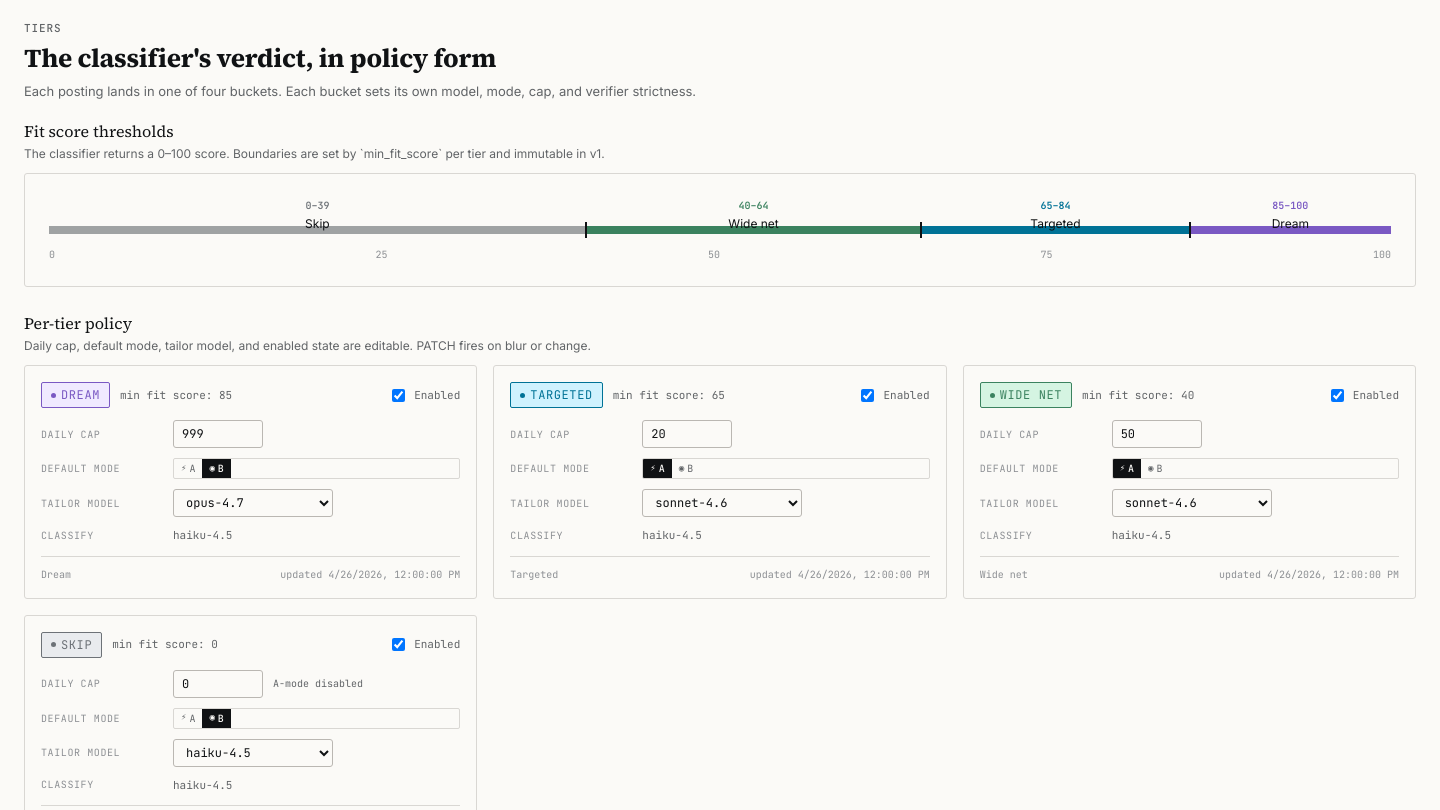
Test: Tiers route — wired to backend › PATCH 422 rolls back the optimistic value and shows an inline error
The image size is (1440, 810).
Replace the text in the 2nd number field labelled "Daily cap" with "999999" at [687, 434], box [642,420,732,448]
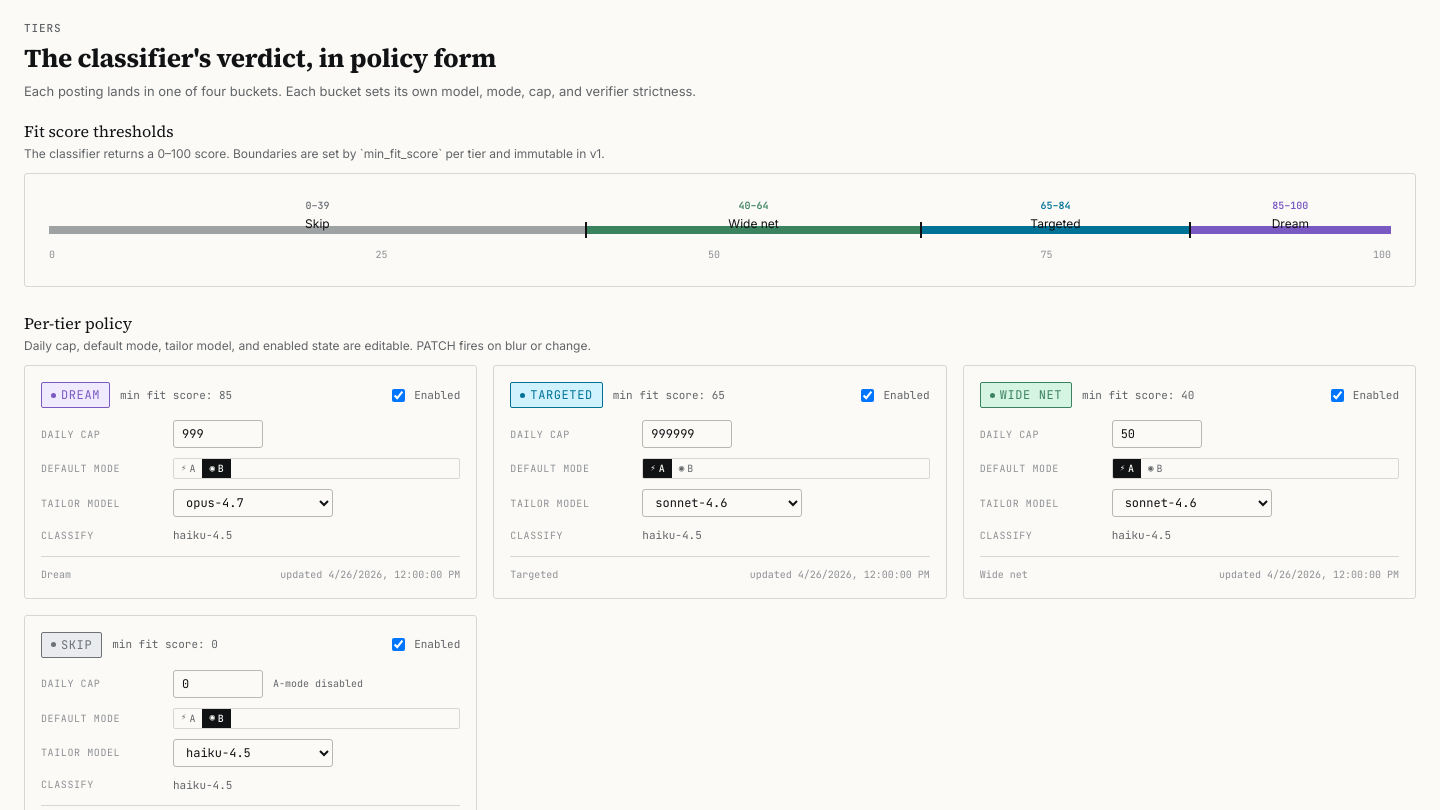
Leave the 2nd number field labelled "Daily cap", box [642,420,732,448]
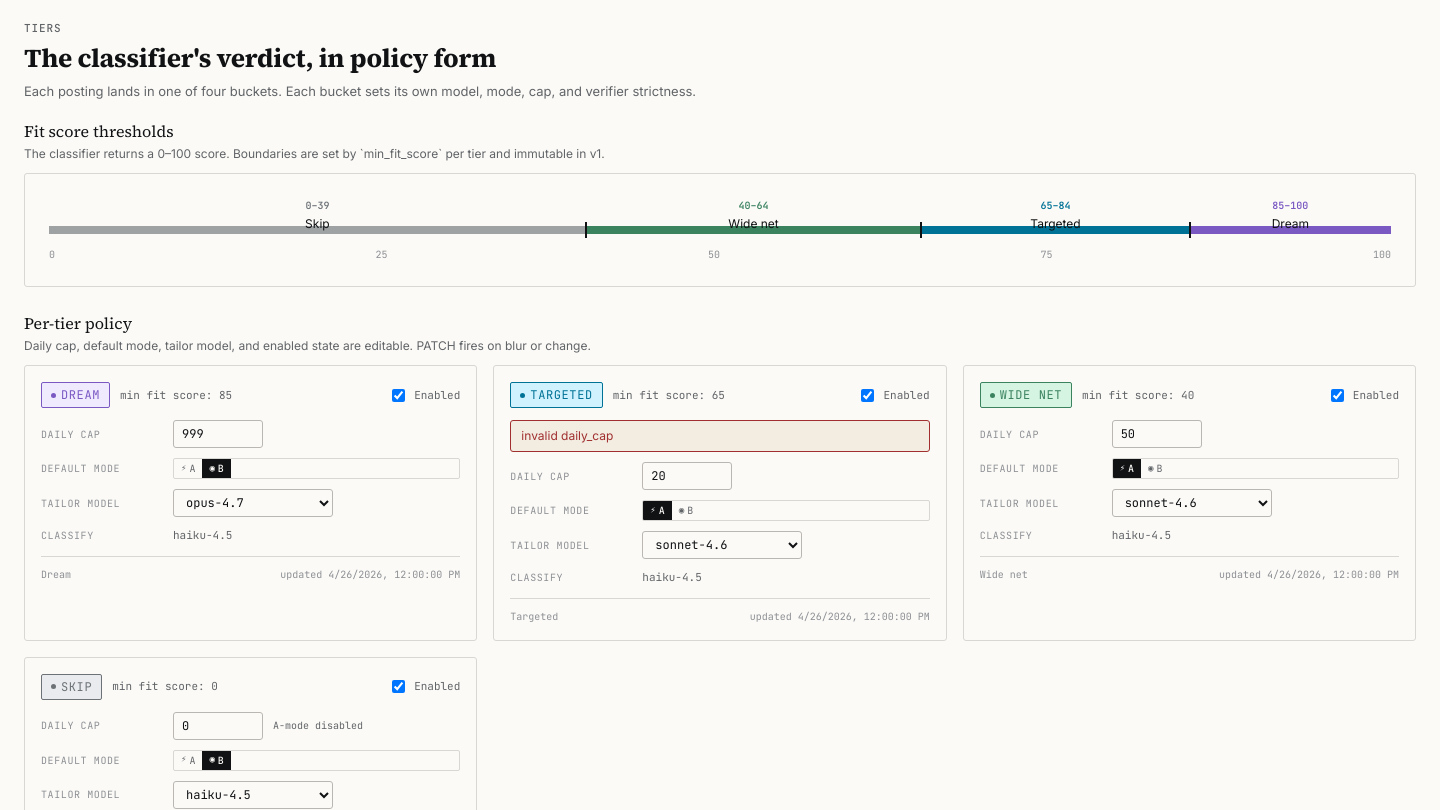
Result: the message reads "invalid daily_cap" at [521,428,613,443]
Result: the number field labelled "Daily cap" below "invalid daily_cap" holds "20" at [642,462,732,490]
